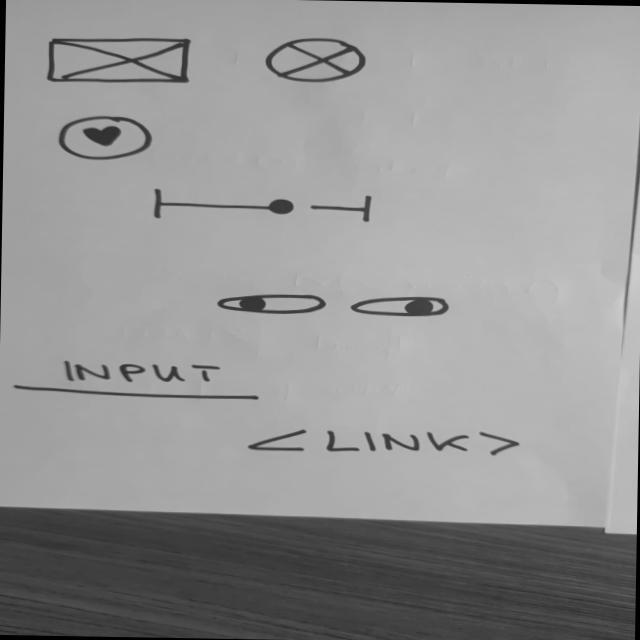icon-button: (54, 114, 160, 162)
image: (45, 36, 198, 89), (261, 37, 372, 87)
input: (5, 357, 267, 404)
link: (246, 424, 530, 458)
slider: (148, 186, 378, 229)
toggle: (212, 291, 330, 319), (347, 293, 454, 320)
